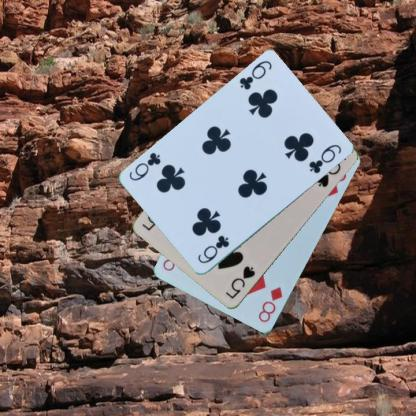5s: (223, 264, 257, 300)
6c: (236, 58, 274, 92), (194, 233, 230, 265)
8d: (256, 284, 284, 324)
